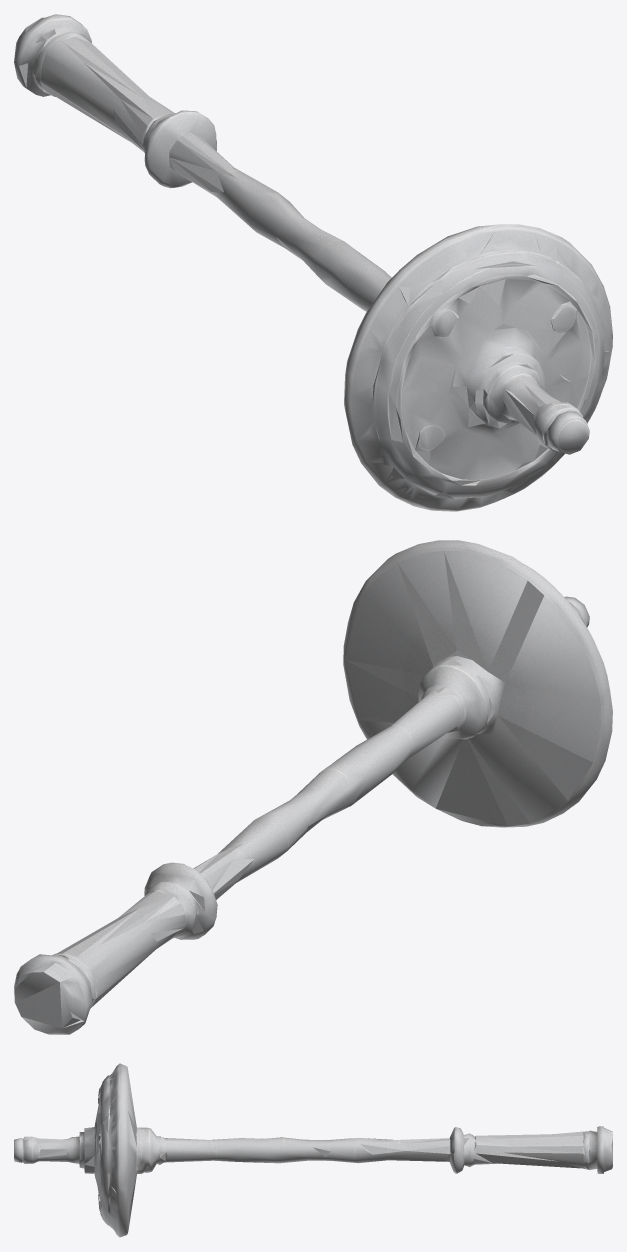
Rendered from Masse.fbx.
3 views of the same model, one above another, from view 1: azimuth 30°, elevation 25°; view 2: azimuth 150°, elevation 25°; view 3: azimuth 270°, elevation 25° (orthographic). The views are drawn at different scales.
Visible parts, largest first — view 1: Mesh_0; view 2: Mesh_0; view 3: Mesh_0.
Boxes of the visible parts, x1,y1,x2,y2 form: Mesh_0: [14, 14, 612, 511]; Mesh_0: [14, 540, 612, 1034]; Mesh_0: [14, 1063, 612, 1237].
Bounding box in the file's own units: 55.38 × 55.4 × 190.
Materials: 1 (1 with a texture image).
